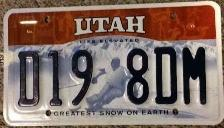1: (45, 48, 68, 107)
8: (127, 45, 151, 105)
9: (70, 49, 96, 107)
D: (16, 49, 43, 109), (152, 45, 179, 105)
M: (180, 45, 211, 106)
